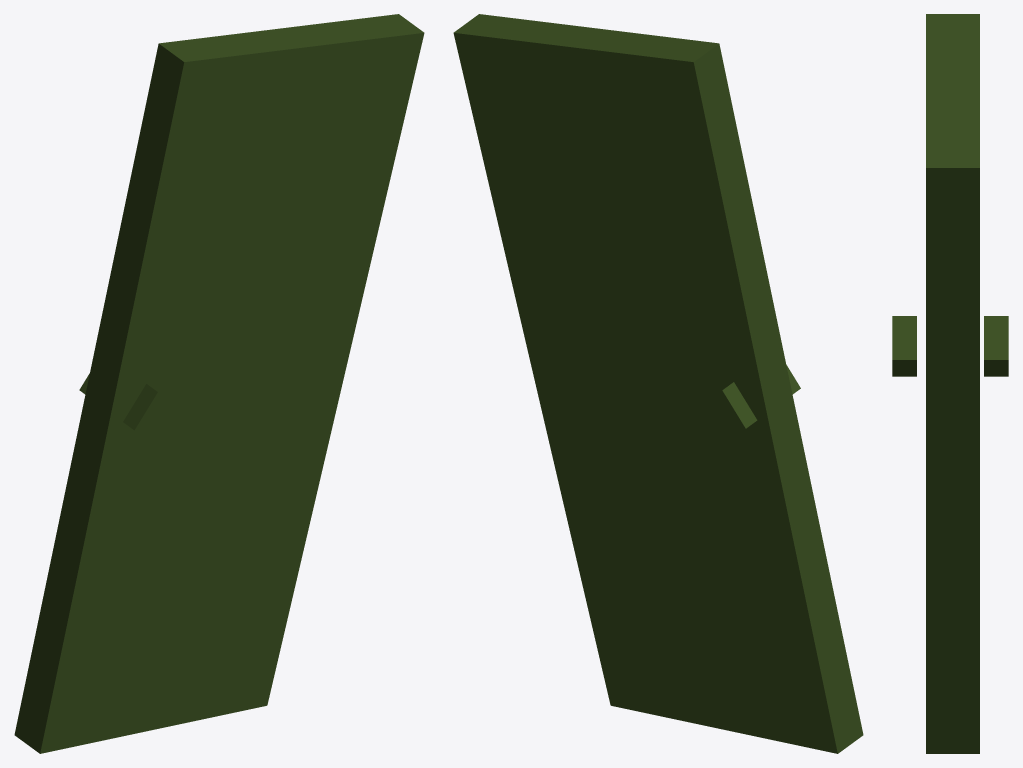
File: bRoomDoor_mdl.fbx
3 views of the same model, side by side, from view 1: azimuth 30°, elevation 25°; view 2: azimuth 150°, elevation 25°; view 3: azimuth 270°, elevation 25° (orthographic). The views are drawn at different scales.
Visible parts, largest first — view 1: bathroomDoor_GEO; view 2: bathroomDoor_GEO; view 3: bathroomDoor_GEO.
Part boxes in pixels (x1,y1,x2,y2): bathroomDoor_GEO: [14, 14, 424, 753]; bathroomDoor_GEO: [453, 14, 863, 753]; bathroomDoor_GEO: [892, 14, 1008, 753].
Bounding box in the file's own units: 453 × 748 × 113.
